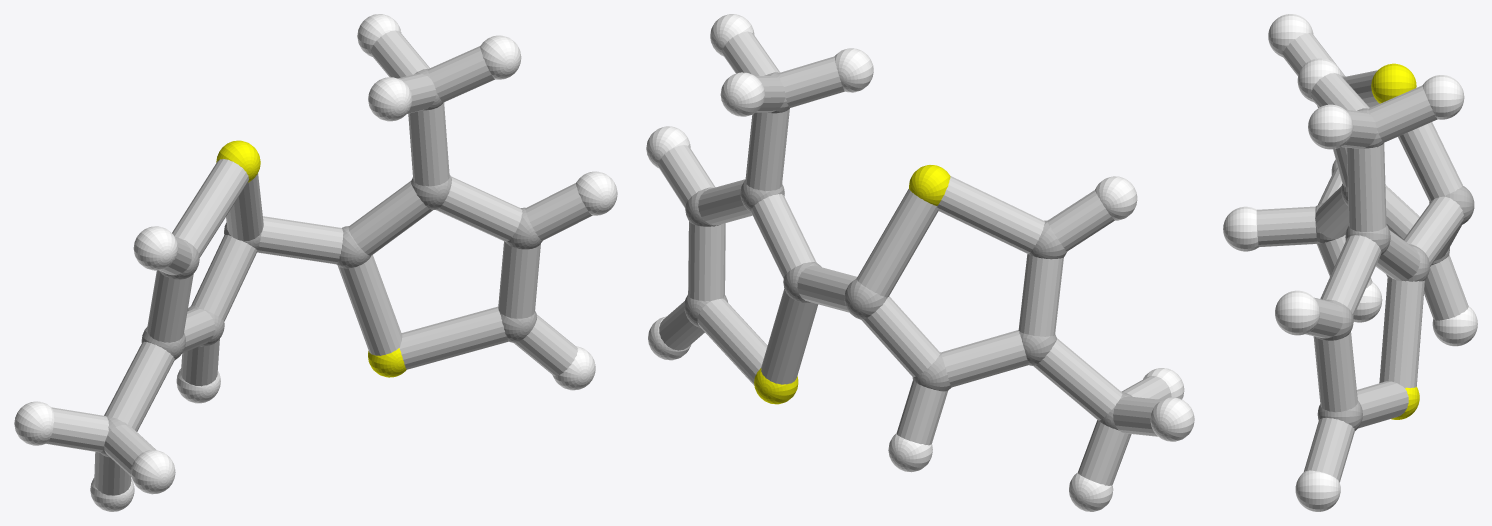
The model's file is Methylthiophene_Phi_60_Theta_0_Methylthiophene.glb.
3 renders of one model, left to right at view 1: azimuth 30°, elevation 25°; view 2: azimuth 150°, elevation 25°; view 3: azimuth 270°, elevation 25°, orthographic.
Visible parts, largest first — view 1: grp7965, grp3621, grp1, grp7241; view 2: grp7965, grp3621, grp1, grp7241; view 3: grp7965, grp3621, grp1, grp7241.
Boxes of the visible parts, x1,y1,x2,y2 form: grp7965: (46,30,592,495); grp3621: (14,14,617,511); grp1: (100,68,542,457); grp7241: (216,140,406,377); grp7965: (658,31,1171,485); grp3621: (646,14,1194,511); grp1: (684,72,1132,430); grp7241: (754,165,950,404); grp7965: (1256,33,1468,482); grp3621: (1223,14,1477,511); grp1: (1315,75,1474,430); grp7241: (1371,63,1419,419).
Size of the model in its own units: 8.87 by 5.84 by 3.38.
